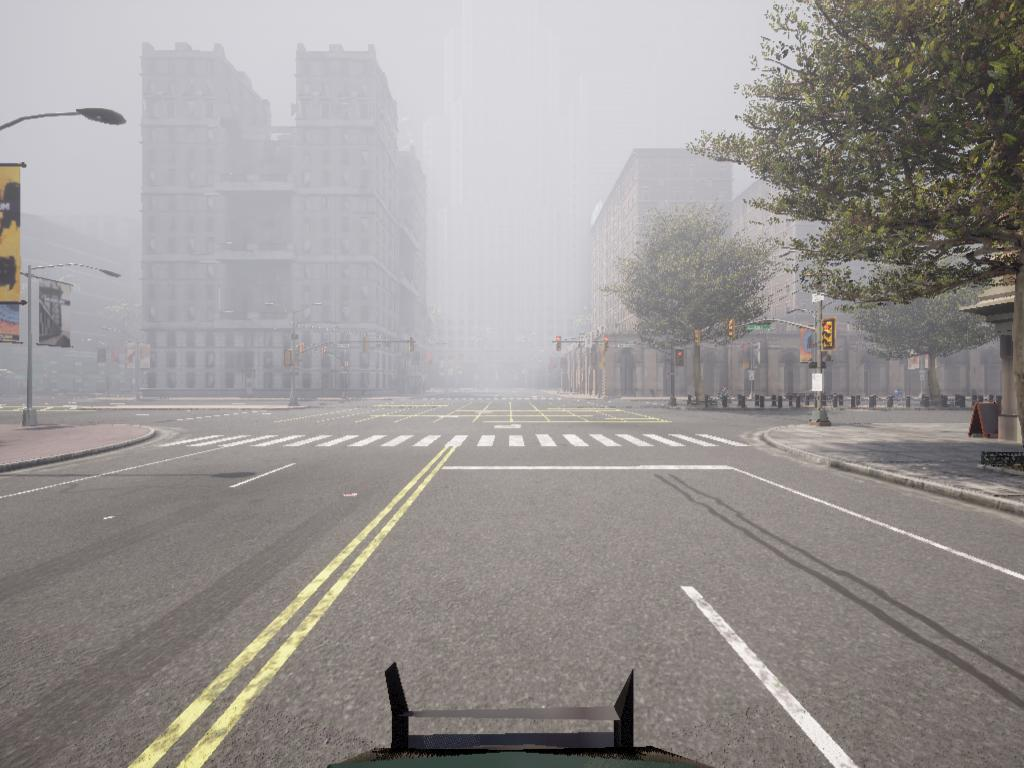traffic_light: (822, 321, 838, 350), (728, 320, 739, 342), (678, 349, 685, 369), (604, 337, 610, 353), (556, 337, 563, 350), (409, 338, 415, 353), (364, 338, 369, 353), (302, 343, 307, 354), (324, 346, 328, 358)
